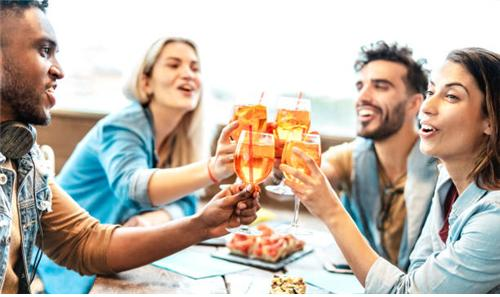alcohol: (279, 133, 324, 235), (272, 89, 311, 195), (231, 131, 274, 220), (229, 100, 268, 161)
